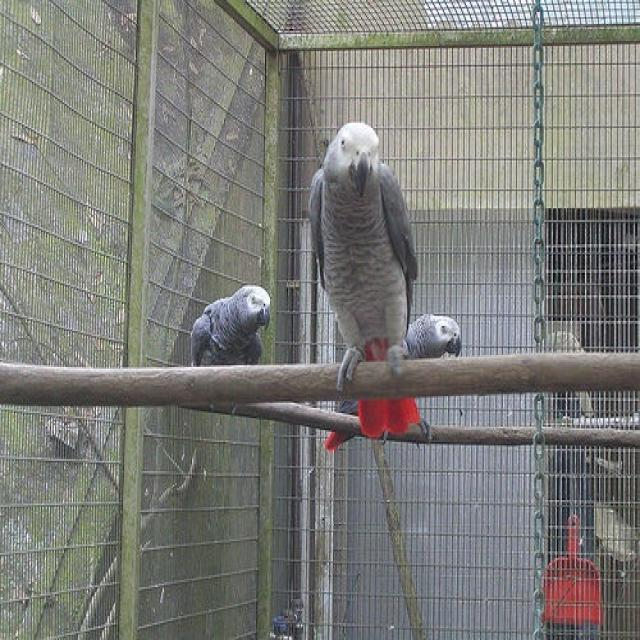bird: (309, 119, 430, 437), (325, 312, 461, 450), (191, 283, 269, 367)
